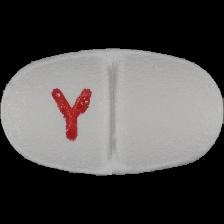35356-462: (0, 0, 224, 224)
